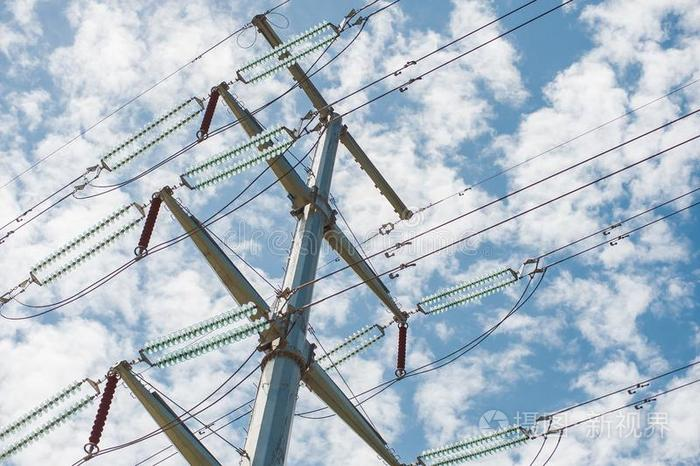insulator: (31, 203, 139, 285), (143, 303, 270, 369), (1, 381, 93, 460), (102, 98, 197, 167), (191, 127, 293, 191), (241, 21, 336, 83), (423, 268, 518, 313), (421, 424, 529, 462), (321, 326, 381, 368), (90, 373, 115, 442), (134, 198, 162, 250), (200, 87, 217, 136), (395, 322, 408, 371)
